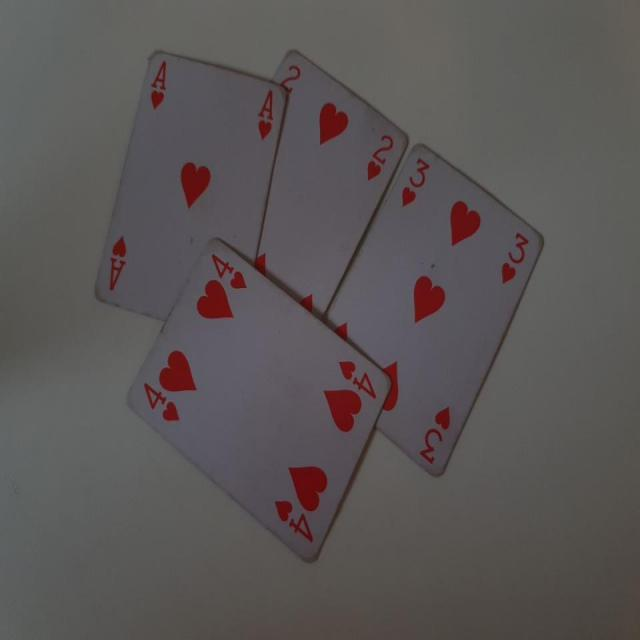2 of hearts: (241, 44, 408, 320)
3 of hearts: (315, 138, 553, 492)
4 of hearts: (123, 238, 400, 572)
ace of hearts: (85, 50, 288, 342)
